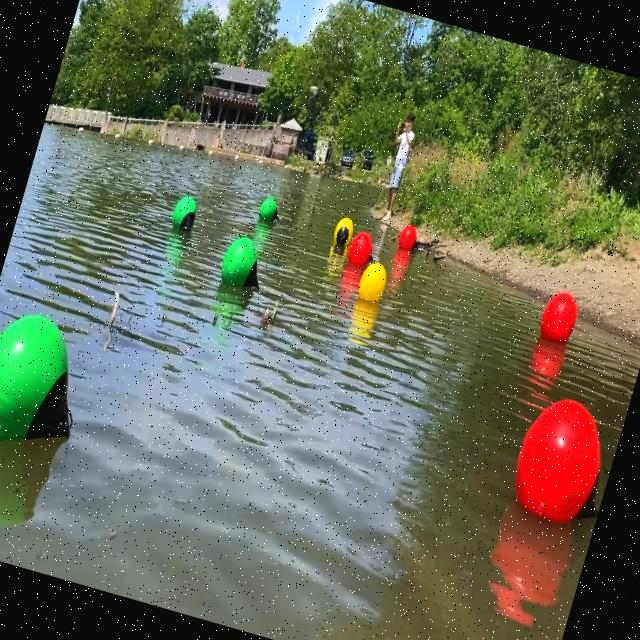buoy: (504, 388, 626, 534), (0, 301, 98, 459), (218, 233, 270, 293), (536, 288, 583, 344), (354, 260, 390, 305), (169, 194, 201, 234), (346, 228, 379, 266), (256, 194, 284, 225), (394, 224, 422, 255), (332, 214, 356, 246)
